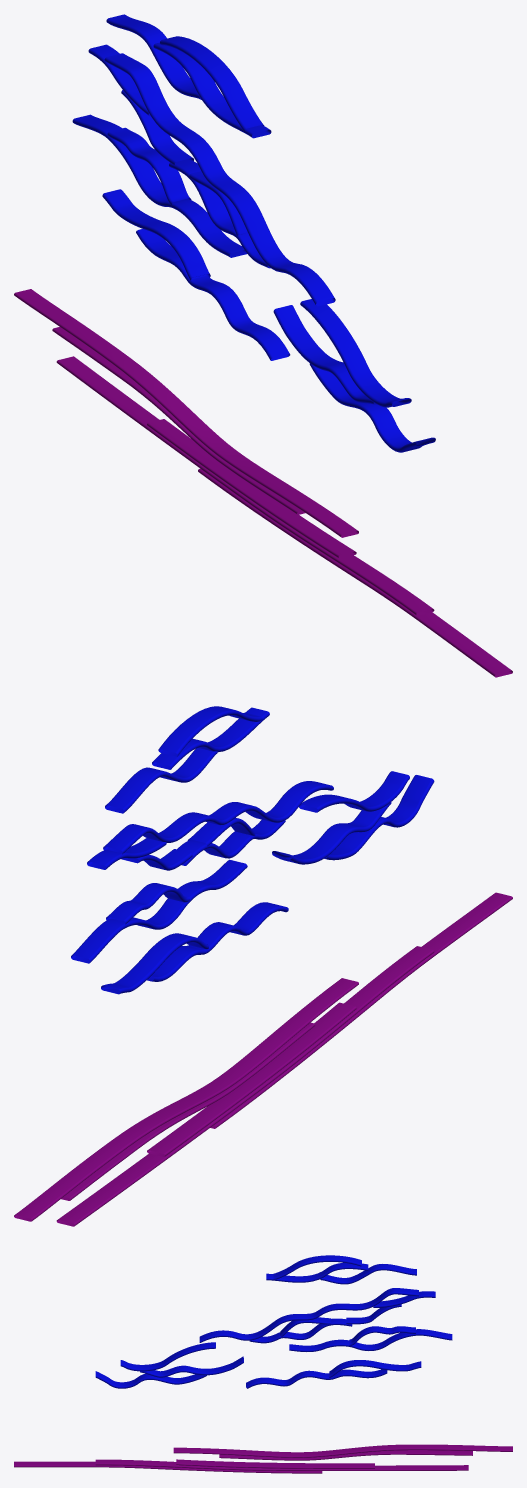
The model's file is domaine second.glb.
3 renders of one model, top to bottom at view 1: azimuth 30°, elevation 25°; view 2: azimuth 150°, elevation 25°; view 3: azimuth 270°, elevation 25°, orthographic. The views are drawn at different scales.
Parts seen in each view (by area): view 1: Domain 2, BézierCurve; view 2: Domain 2, BézierCurve; view 3: Domain 2, BézierCurve.
Part boxes in pixels (box(x1,y1,x2,y2)): Domain 2: box(72, 14, 435, 452); BézierCurve: box(14, 289, 512, 677); Domain 2: box(71, 706, 434, 994); BézierCurve: box(14, 892, 512, 1226); Domain 2: box(95, 1255, 452, 1388); BézierCurve: box(14, 1444, 512, 1473).
Size of the model in its own units: 0.0026 by 0.0524 by 0.1104.
